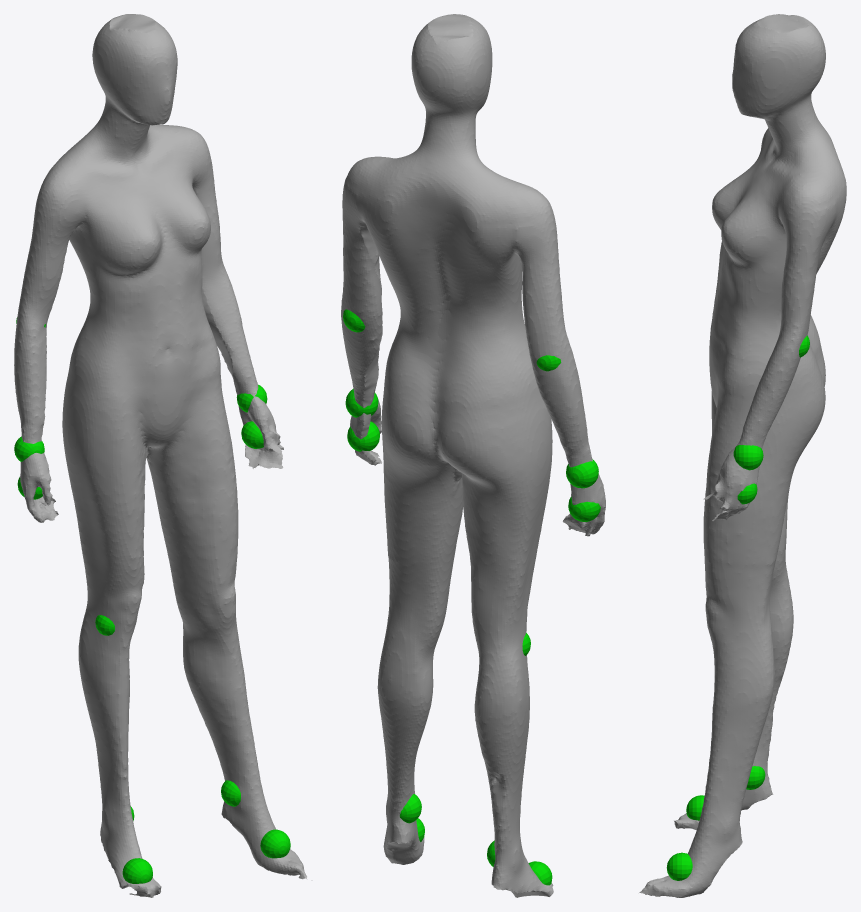
Rendered from joints_on_input.glb.
3 renders of one model, left to right at view 1: azimuth 30°, elevation 25°; view 2: azimuth 150°, elevation 25°; view 3: azimuth 270°, elevation 25°, orthographic. The views are drawn at different scales.
Size of the model in its own units: 0.5529 by 1.79 by 0.4175.
